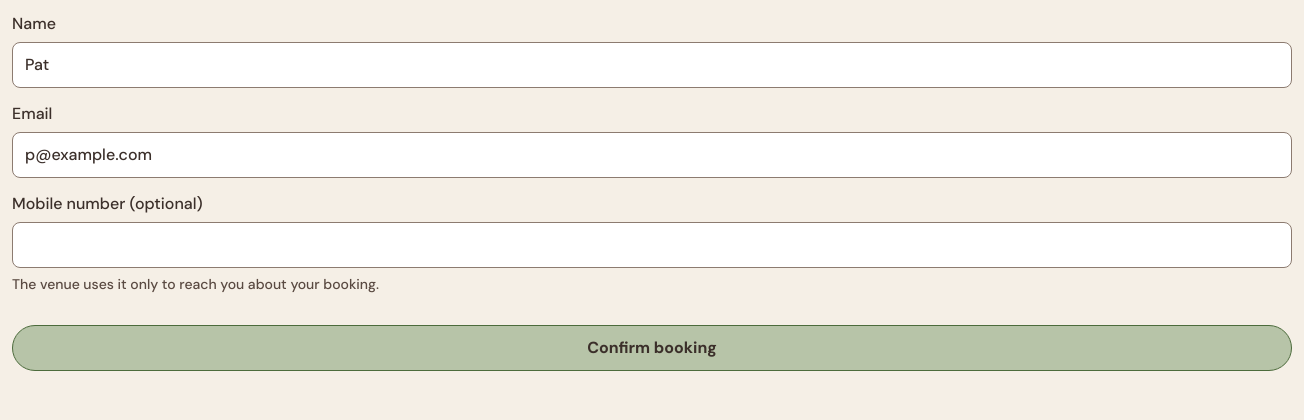
CheckoutForm › shows PHONE_ERROR for an invalid number and does not submit
Step 1. Type "028123456" into the field labelled "Mobile number (optional)" → (652, 245), box [12,222,1292,268]
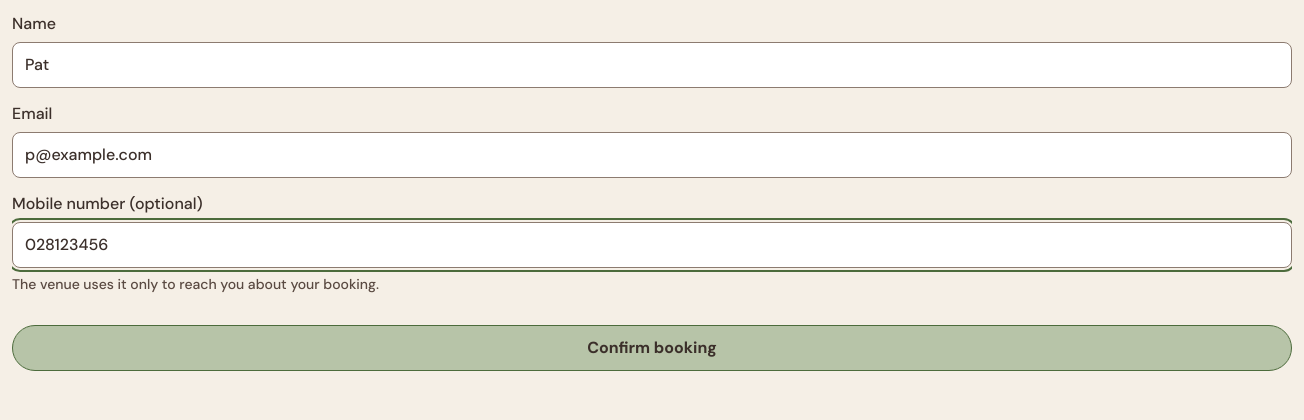
Step 2. Click the button "Confirm booking" → (652, 348), box [12,325,1292,371]
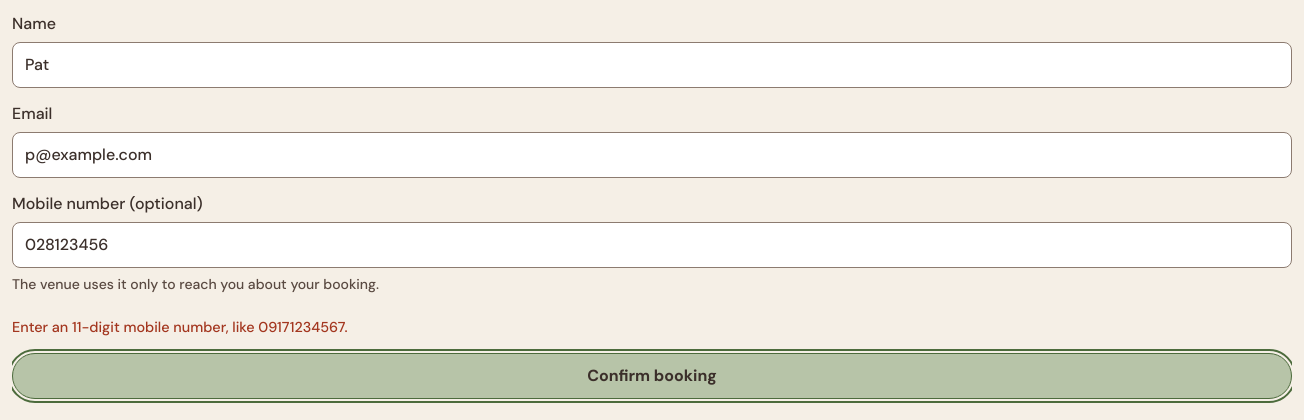
expect the text "Enter an 11-digit mobile number, like 09171234567." is shown: met, box [12,318,348,336]
